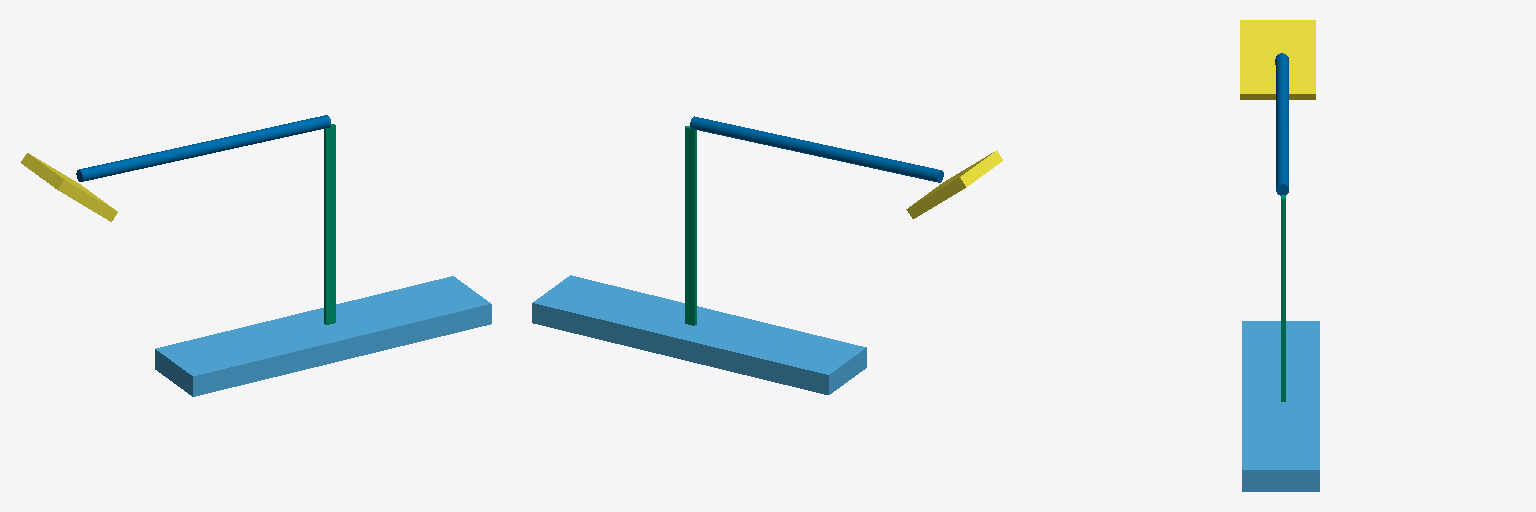
robot.urdf — myboat:
<?xml version="1.0" encoding="utf-8"?>
<!-- =================================================================================== -->
<!-- |    This document was autogenerated by xacro from boot0.xacro                    | -->
<!-- |    EDITING THIS FILE BY HAND IS NOT RECOMMENDED                                 | -->
<!-- =================================================================================== -->
<robot name="myboat" xmlns:xacro="http://www.ros.org/wiki/xacro">
  <gazebo>
    <self_collide>1</self_collide>
  </gazebo>
  <!-- ros_control plugin -->
  <gazebo>
    <plugin filename="libgazebo_ros_control.so" name="gazebo_ros_control">
      <robotNamespace>/boot0</robotNamespace>
      <robotSimType>gazebo_ros_control/DefaultRobotHWSim</robotSimType>
    </plugin>
  </gazebo>
  <gazebo>
    <plugin filename="libgazebo_ros_ft_sensor.so" name="bb_sensor">
      <updateRate>10.0</updateRate>
      <topicName>bb_sensor_topic</topicName>
      <jointName>base_body</jointName>
    </plugin>
    <plugin filename="libgazebo_ros_ft_sensor.so" name="ba_sensor">
      <updateRate>10.0</updateRate>
      <topicName>ba_sensor_topic</topicName>
      <jointName>body_arm</jointName>
    </plugin>
    <plugin filename="libgazebo_ros_ft_sensor.so" name="ab_sensor">
      <updateRate>10.0</updateRate>
      <topicName>ab_sensor_topic</topicName>
      <jointName>arm_blad</jointName>
    </plugin>
  </gazebo>
  <gazebo reference="base_body">
    <sensor name="bb_force_torque" type="force_torque">
      <update_rate>30</update_rate>
    </sensor>
    <provideFeedback>true</provideFeedback>
  </gazebo>
  <gazebo reference="body_arm">
    <sensor name="ba_force_torque" type="force_torque">
      <update_rate>30</update_rate>
    </sensor>
    <provideFeedback>true</provideFeedback>
  </gazebo>
  <gazebo reference="arm_blad">
    <sensor name="ab_force_torque" type="force_torque">
      <update_rate>30</update_rate>
    </sensor>
    <provideFeedback>true</provideFeedback>
  </gazebo>
  <gazebo reference="myboat__base">
    <material>Gazebo/Orange</material>
  </gazebo>
  <gazebo reference="myboat__body">
    <mu1>0.2</mu1>
    <mu2>0.2</mu2>
    <material>Gazebo/Black</material>
  </gazebo>
  <gazebo reference="myboat__arm">
    <mu1>0.2</mu1>
    <mu2>0.2</mu2>
    <material>Gazebo/Orange</material>
  </gazebo>
  <gazebo reference="myboat__blad">
    <mu1>0.2</mu1>
    <mu2>0.2</mu2>
    <material>Gazebo/Orange</material>
  </gazebo>
  <!-- camera_link -->
  <gazebo reference="camera_link">
    <mu1>0.2</mu1>
    <mu2>0.2</mu2>
    <material>Gazebo/Red</material>
  </gazebo>
  <material name="black">
    <color rgba="0.0 0.0 0.0 1.0"/>
  </material>
  <material name="blue">
    <color rgba="0.0 0.0 0.8 1.0"/>
  </material>
  <material name="green">
    <color rgba="0.0 0.8 0.0 1.0"/>
  </material>
  <material name="grey">
    <color rgba="0.2 0.2 0.2 1.0"/>
  </material>
  <material name="orange">
    <color rgba="1.0 0.423529411765 0.0392156862745 1.0"/>
  </material>
  <material name="brown">
    <color rgba="0.870588235294 0.811764705882 0.764705882353 1.0"/>
  </material>
  <material name="red">
    <color rgba="0.8 0.0 0.0 1.0"/>
  </material>
  <material name="white">
    <color rgba="1.0 1.0 1.0 1.0"/>
  </material>
  <joint name="body_arm" type="revolute">
    <parent link="myboat__body"/>
    <child link="myboat__arm"/>
    <origin rpy="-1.45000e-03 -1.54681e+00  3.75000e-03" xyz="0.02714 -0.00665  1.9954"/>
    <axis xyz="0 1 0"/>
    <limit effort="200.0" lower="-1.4" upper="1.4" velocity="1.0"/>
  </joint>
  <joint name="arm_blad" type="revolute">
    <parent link="myboat__arm"/>
    <child link="myboat__blad"/>
    <origin rpy="-3.13788  0.91639 -3.13874" xyz="-0.03048 -0.03639  2.64237"/>
    <axis xyz="0 1 0"/>
    <limit effort="10.0" lower="-1.4" upper="1.4" velocity="1.0"/>
  </joint>
  <joint name="base_body" type="revolute">
    <parent link="base_link"/>
    <child link="myboat__body"/>
    <origin rpy="0.e+00  0.e+00 -4.e-05" xyz="-0.98209 -0.1049   0.15209"/>
    <axis xyz="0 1 0"/>
    <limit effort="2000.0" lower="-1.4" upper="1.4" velocity="1.0"/>
  </joint>
  <link name="base_link"/>
  <!-- Dummy for gazebo   -->
  <joint name="dummy" type="fixed">
    <parent link="base_link"/>
    <child link="myboat__base"/>
  </joint>
  <link name="myboat__base">
    <inertial>
      <mass value="15"/>
      <origin rpy="0 0 0" xyz="-1.0 -0.12 0.1"/>
      <inertia ixx="0.6" ixy="0" ixz="0" iyy="11" iyz="0" izz="11.8"/>
    </inertial>
    <collision>
      <origin rpy="0 0 0" xyz="-1.0 -0.12   0.1"/>
      <geometry>
        <box size="3.0 0.663318 0.197068"/>
      </geometry>
    </collision>
    <visual>
      <origin rpy="0 0 0" xyz="-1.06112 -0.1246   0.1"/>
      <geometry>
        <box size="3.0 0.663318 0.197068"/>
      </geometry>
    </visual>
  </link>
  <link name="myboat__body">
    <inertial>
      <mass value="60.0"/>
      <origin rpy="0 0 0" xyz="0 0 0.97"/>
      <inertia ixx="19" ixy="0" ixz="0" iyy="19" iyz="0" izz="0.056"/>
    </inertial>
    <collision>
      <origin rpy="0 0 0" xyz="0   0   0.97"/>
      <geometry>
        <box size="0.100516 0.036549 1.95488"/>
      </geometry>
    </collision>
    <visual>
      <origin rpy="0 0 0" xyz="0   0   0.97"/>
      <geometry>
        <box size="0.100516 0.036549 1.95488"/>
      </geometry>
    </visual>
  </link>
  <link name="myboat__blad">
    <inertial>
      <mass value="1.0"/>
      <origin rpy="0 0 0" xyz="0 0 -0.05"/>
      <inertia ixx="0.34" ixy="0" ixz="0" iyy="0.34" iyz="0" izz="0.73"/>
    </inertial>
    <collision>
      <origin rpy="0 0 0" xyz="0    0   -0.05"/>
      <geometry>
        <box size="0.695693 0.648073 0.108244"/>
      </geometry>
    </collision>
    <visual>
      <origin rpy="0 0 0" xyz="0    0   -0.05"/>
      <geometry>
        <box size="0.695693 0.648073 0.108244"/>
      </geometry>
    </visual>
  </link>
  <link name="myboat__arm">
    <inertial>
      <mass value="1.0"/>
      <origin rpy="0 0 0" xyz="0 0 1.3"/>
      <inertia ixx="0.32" ixy="0" ixz="0" iyy="0.32" iyz="0" izz="0.0016"/>
    </inertial>
    <collision>
      <origin rpy="0 0 0" xyz="0  0  1.3"/>
      <geometry>
        <cylinder length="1.97792" radius="0.05655"/>
      </geometry>
    </collision>
    <visual>
      <origin rpy="0 0 0" xyz="0  0  1.3"/>
      <geometry>
        <cylinder length="2.5" radius="0.05655"/>
      </geometry>
    </visual>
  </link>
  <transmission name="tran1">
    <type>transmission_interface/SimpleTransmission</type>
    <joint name="base_body">
      <hardwareInterface>hardware_interface/EffortJointInterface</hardwareInterface>
    </joint>
    <actuator name="motor1">
      <mechanicalReduction>1</mechanicalReduction>
    </actuator>
  </transmission>
  <transmission name="tran2">
    <type>transmission_interface/SimpleTransmission</type>
    <joint name="body_arm">
      <hardwareInterface>hardware_interface/EffortJointInterface</hardwareInterface>
    </joint>
    <actuator name="motor2">
      <mechanicalReduction>1</mechanicalReduction>
    </actuator>
  </transmission>
  <transmission name="tran3">
    <type>transmission_interface/SimpleTransmission</type>
    <joint name="arm_blad">
      <hardwareInterface>hardware_interface/EffortJointInterface</hardwareInterface>
    </joint>
    <actuator name="motor2">
      <mechanicalReduction>1</mechanicalReduction>
    </actuator>
  </transmission>
</robot>

--- Render facts (derived) ---
The picture shows the robot from 3 angles, left to right: view 1: azimuth 30°, elevation 25°; view 2: azimuth 150°, elevation 25°; view 3: azimuth 270°, elevation 25°; orthographic projection.
Model myboat with 5 links and 4 joints (3 revolute, 1 fixed), rooted at base_link, posed every joint at zero.
Visible links, largest first — view 1: myboat__base, myboat__arm, myboat__body, myboat__blad; view 2: myboat__base, myboat__arm, myboat__body, myboat__blad; view 3: myboat__base, myboat__blad, myboat__arm, myboat__body.
Link boxes in pixels (<box>): myboat__base: <box>155,276,491,396</box>; myboat__arm: <box>76,115,330,181</box>; myboat__body: <box>324,124,335,324</box>; myboat__blad: <box>21,153,117,221</box>; myboat__base: <box>532,275,866,394</box>; myboat__arm: <box>690,116,943,182</box>; myboat__body: <box>685,126,696,325</box>; myboat__blad: <box>906,150,1002,218</box>; myboat__base: <box>1242,321,1319,491</box>; myboat__blad: <box>1240,20,1315,99</box>; myboat__arm: <box>1275,53,1288,195</box>; myboat__body: <box>1281,195,1285,401</box>.
Size in the robot's own frame: 4.37 by 0.685 by 2.4 metres.
Geometry: primitives only (box / cylinder / sphere), no mesh files.